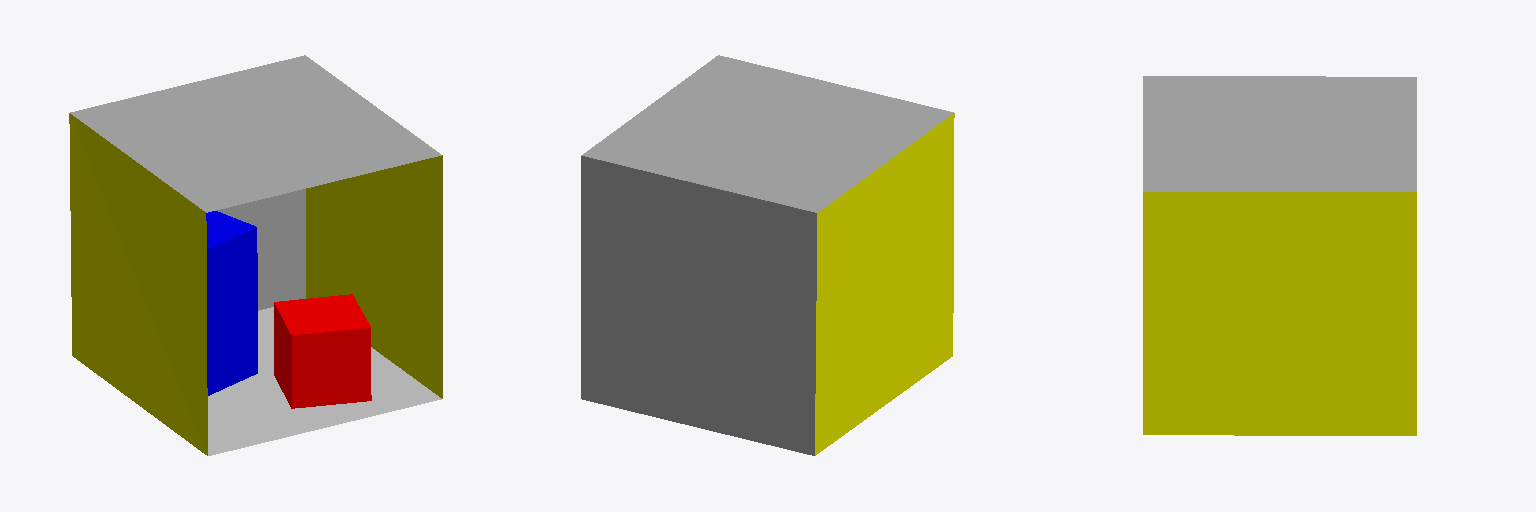
The model's file is cornell-box.obj.
3 views of the same model, side by side, from view 1: azimuth 30°, elevation 25°; view 2: azimuth 150°, elevation 25°; view 3: azimuth 270°, elevation 25° (orthographic).
Parts seen in each view (by area): view 1: left_wall, ceiling, right_wall, floor, short_box, tall_box, back_wall; view 2: back_wall, left_wall, ceiling; view 3: right_wall, ceiling.
Part boxes in pixels (x1,y1,x2,y2): left_wall: (69, 113, 207, 455); ceiling: (70, 55, 441, 212); right_wall: (306, 155, 442, 398); floor: (208, 307, 441, 455); short_box: (274, 294, 371, 408); tall_box: (206, 211, 257, 395); back_wall: (216, 189, 305, 310); back_wall: (581, 156, 816, 455); left_wall: (815, 113, 954, 455); ceiling: (581, 55, 953, 212); right_wall: (1143, 192, 1416, 435); ceiling: (1143, 76, 1416, 191).
Bounding box in the file's own units: 5.56 × 5.49 × 5.6.